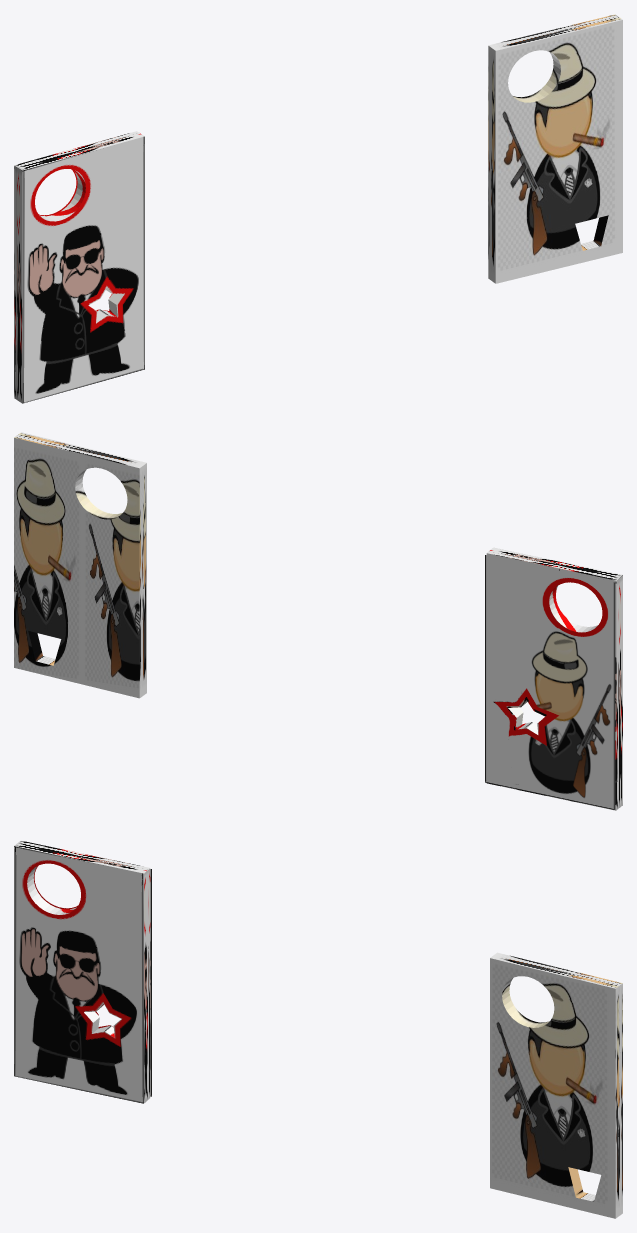
File: finaltorpedos.dae
3 views of the same model, one above another, from view 1: azimuth 30°, elevation 25°; view 2: azimuth 150°, elevation 25°; view 3: azimuth 330°, elevation 25° (orthographic).
Visible parts, largest first — view 1: Cube.013, Cube.010; view 2: Cube.013, bootlegger, Cube.010; view 3: Cube.010, Cube.013, bootlegger.
Boxes of the visible parts, x1,y1,x2,y2 form: Cube.013: (488,14,622,283); Cube.010: (14,131,144,403); Cube.013: (14,432,146,698); bootlegger: (485,555,615,809); Cube.010: (486,547,622,810); Cube.010: (14,840,150,1103); Cube.013: (490,952,622,1218); bootlegger: (33,865,151,1096).
Bounding box in the file's own units: 3.81 × 0.1368 × 1.41.
3 materials, 3 textured.
